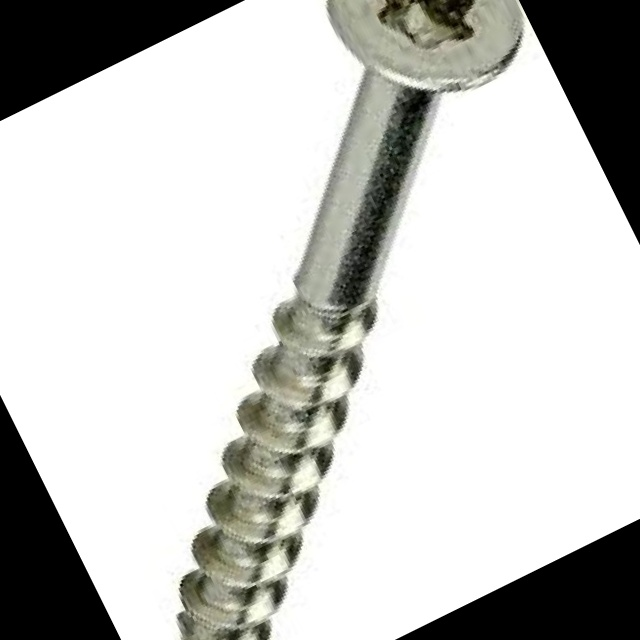torx: (304, 0, 545, 134)
